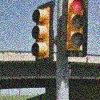traffic lights: (31, 2, 53, 62), (66, 0, 88, 55)
